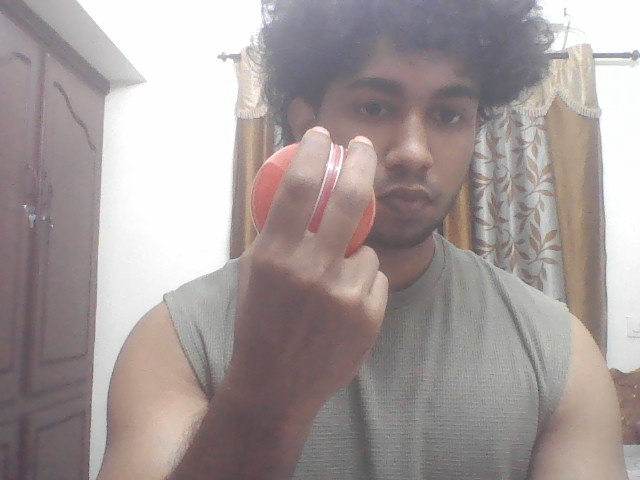cricket_ball: (240, 134, 391, 259)
